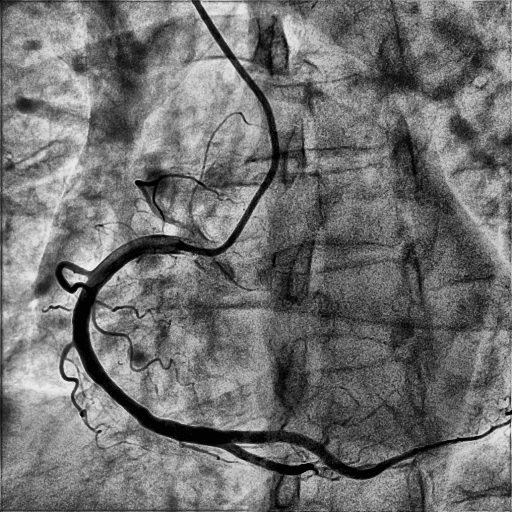pborca: (230, 424, 503, 480)
pda: (226, 443, 319, 476)
rca: (72, 235, 231, 450)
